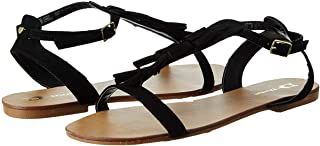shoes: (1, 1, 319, 144)
